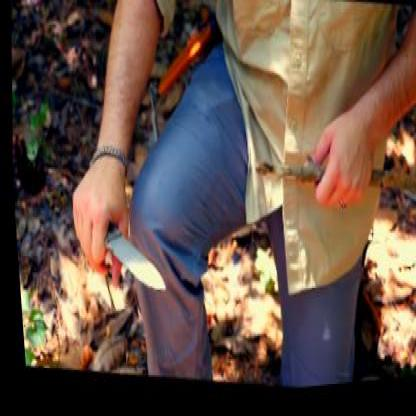knife: (63, 181, 170, 306)
